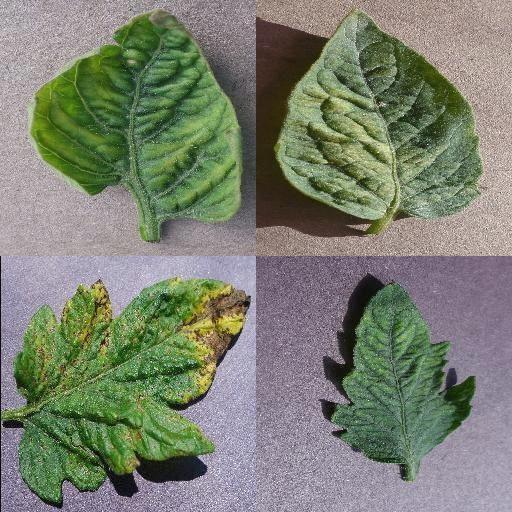Mosaic Virus: (333, 281, 476, 466)
Septoria: (15, 277, 251, 504)
Spider Mites: (275, 9, 483, 219)
Yellow Leaf Curl Virus: (29, 10, 243, 224)
